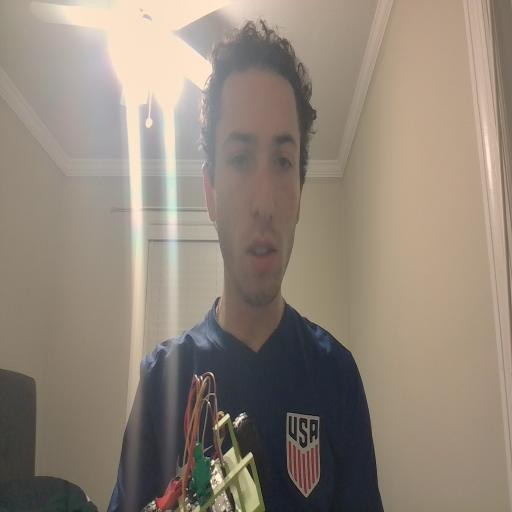green LEGO minifig: (190, 439, 215, 504)
